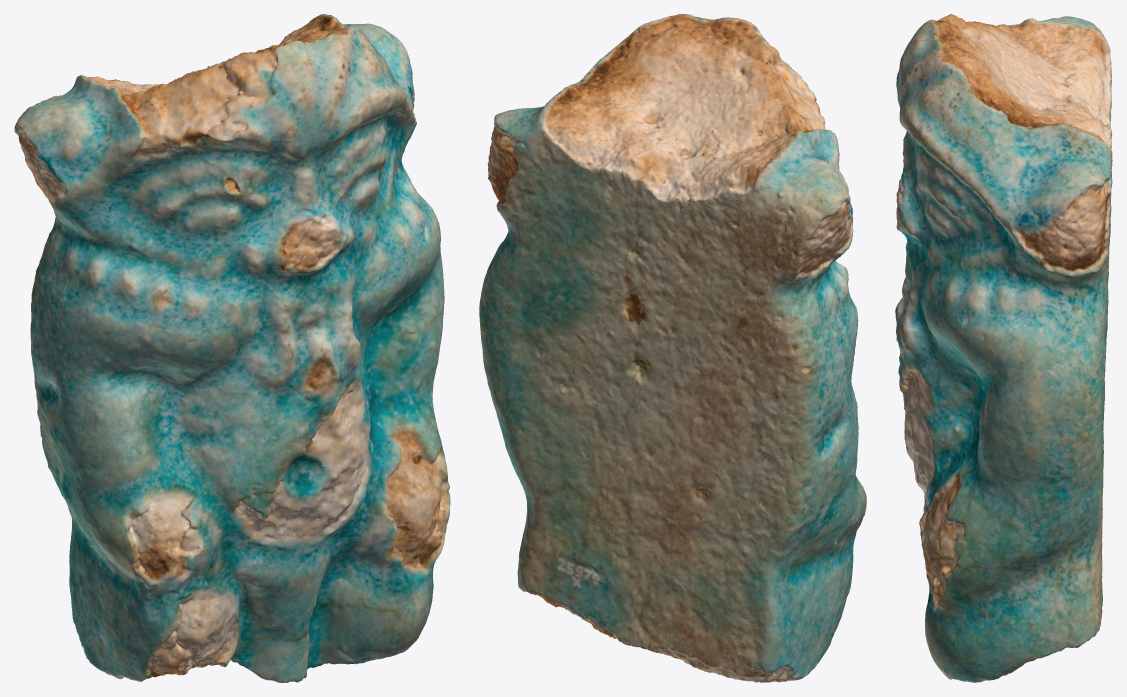
The model's file is Artifact4.glb.
3 renders of one model, left to right at view 1: azimuth 30°, elevation 25°; view 2: azimuth 150°, elevation 25°; view 3: azimuth 270°, elevation 25°, orthographic. The views are drawn at different scales.
Parts seen in each view (by area): view 1: Object_2, Object_3; view 2: Object_2, Object_3; view 3: Object_3, Object_2.
Part boxes in pixels (box(x1,y1,x2,y2)): Object_2: box(30, 26, 450, 682); Object_3: box(14, 14, 448, 682); Object_2: box(482, 14, 866, 682); Object_3: box(479, 15, 863, 682); Object_3: box(896, 14, 1112, 682); Object_2: box(895, 21, 1111, 682).
Bounding box in the file's own units: 0.0524 × 0.0825 × 0.0266.
1 material, 1 textured.
